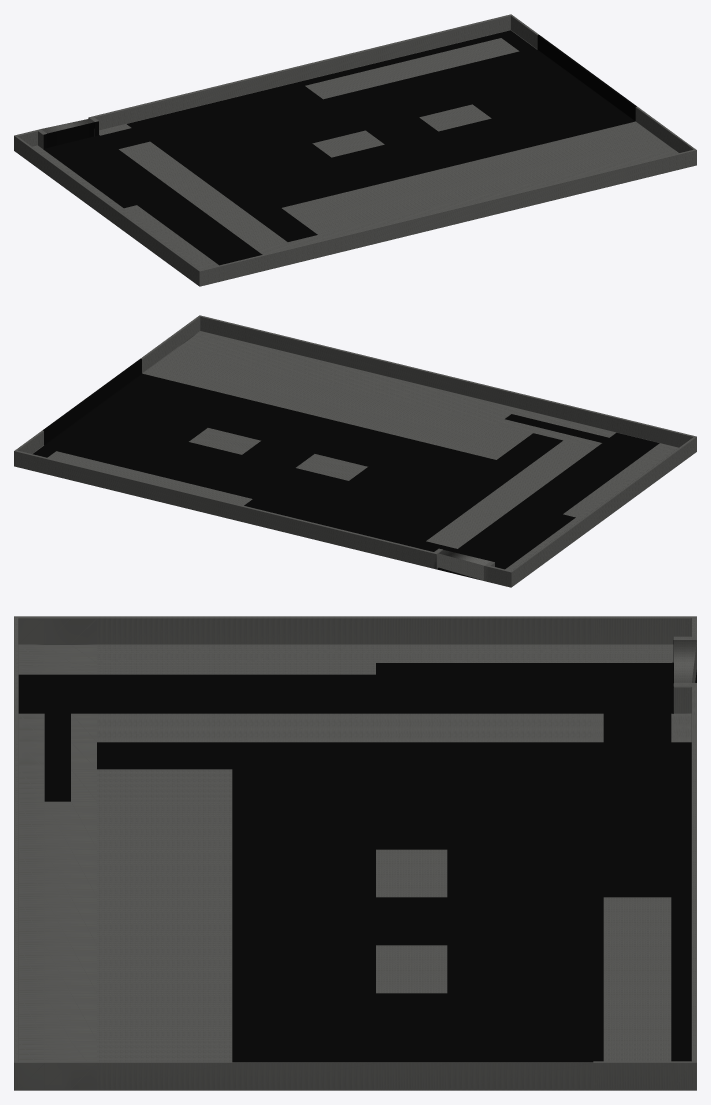
Rendered from pista.obj.
3 renders of one model, top to bottom at view 1: azimuth 30°, elevation 25°; view 2: azimuth 150°, elevation 25°; view 3: azimuth 270°, elevation 25°, orthographic. The views are drawn at different scales.
Visible parts, largest first — view 1: pista; view 2: pista; view 3: pista.
Part boxes in pixels (x1,y1,x2,y2): pista: [14, 14, 696, 286]; pista: [14, 315, 696, 587]; pista: [14, 616, 696, 1090].
Bounding box in the file's own units: 148 × 4.4 × 95.65.
